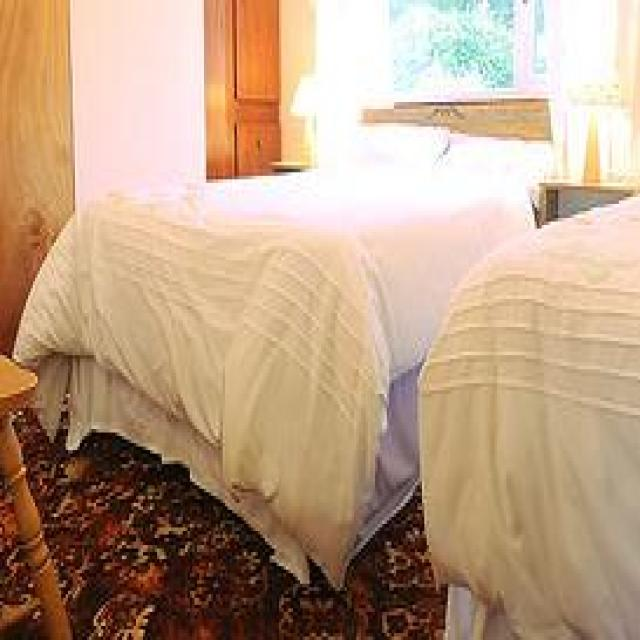bed: (9, 91, 556, 594), (415, 190, 638, 636)
